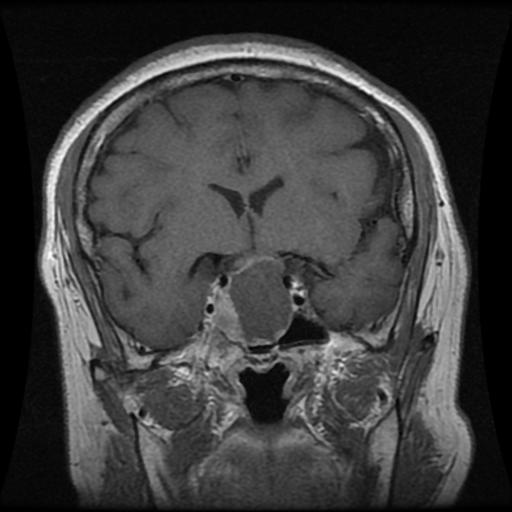Pituirity_tumour: (229, 257, 293, 338)
